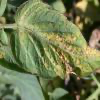Tomato leaf bacterial spot: (9, 2, 100, 78)
